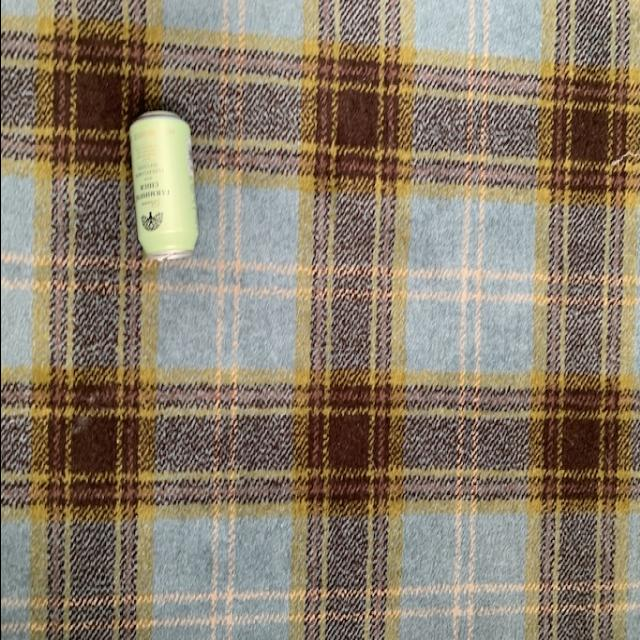Aluminum Can: (126, 109, 200, 264)
